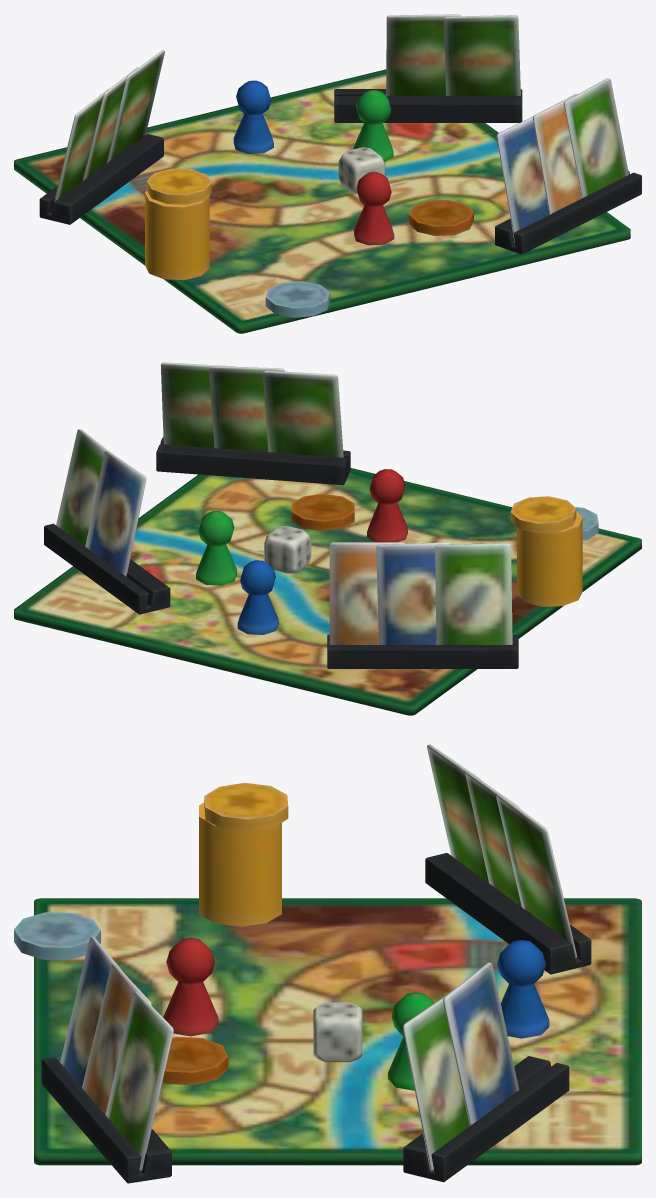
The picture shows the model from 3 angles, top to bottom: view 1: azimuth 30°, elevation 25°; view 2: azimuth 150°, elevation 25°; view 3: azimuth 270°, elevation 25°; orthographic projection. The views are drawn at different scales.
Size of the model in its own units: 9.61 by 2.27 by 8.21.
Materials: 1 (1 with a texture image).
